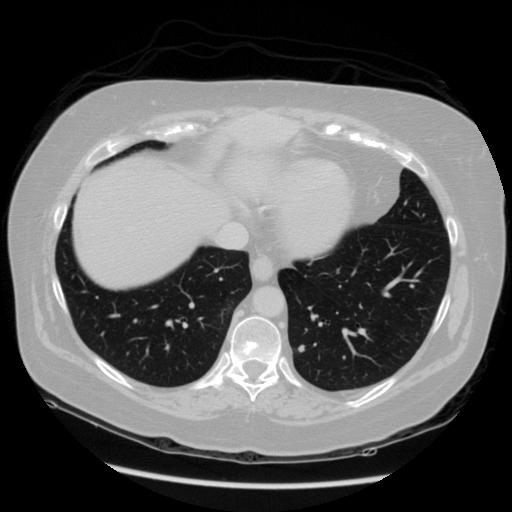nodule: (296, 342, 308, 354)
